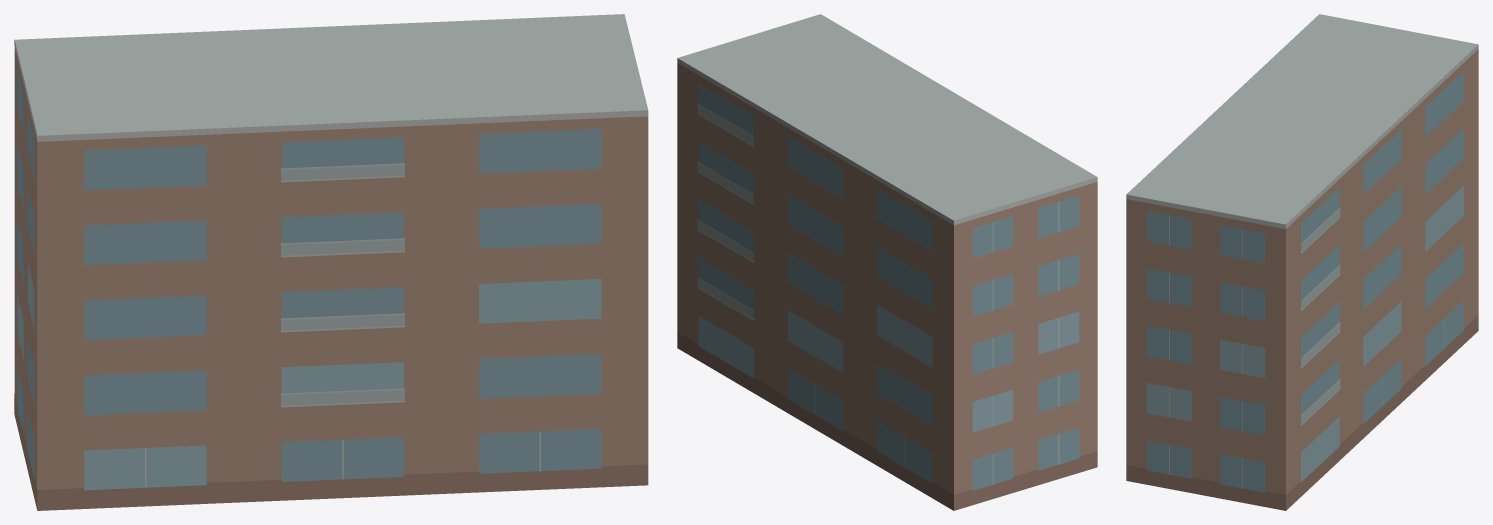
File: survey-upis-32541061.glb
3 renders of one model, left to right at view 1: azimuth 30°, elevation 25°; view 2: azimuth 150°, elevation 25°; view 3: azimuth 270°, elevation 25°, orthographic. The views are drawn at different scales.
Parts seen in each view (by area): view 1: survey-upis-32541061.tmp; view 2: survey-upis-32541061.tmp; view 3: survey-upis-32541061.tmp.
Part boxes in pixels (x1,y1,x2,y2): survey-upis-32541061.tmp: (14, 14, 648, 510); survey-upis-32541061.tmp: (677, 14, 1097, 510); survey-upis-32541061.tmp: (1126, 14, 1478, 510).
Size of the model in its own units: 24.06 by 15.25 by 17.02.
